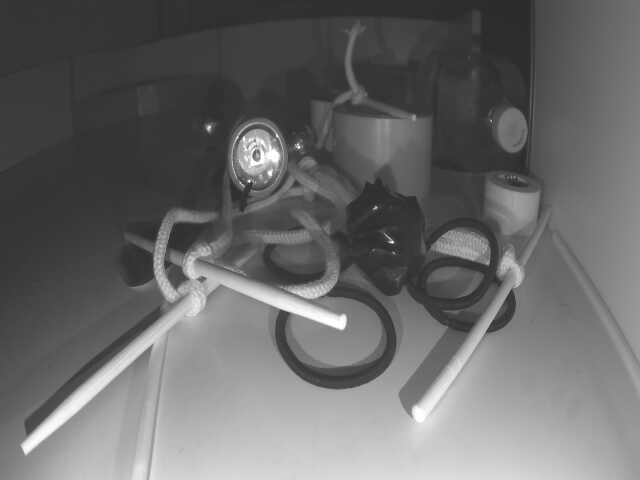Dead: (347, 175, 430, 296)
Live: (189, 101, 222, 145)
Point: (76, 76, 224, 131)
